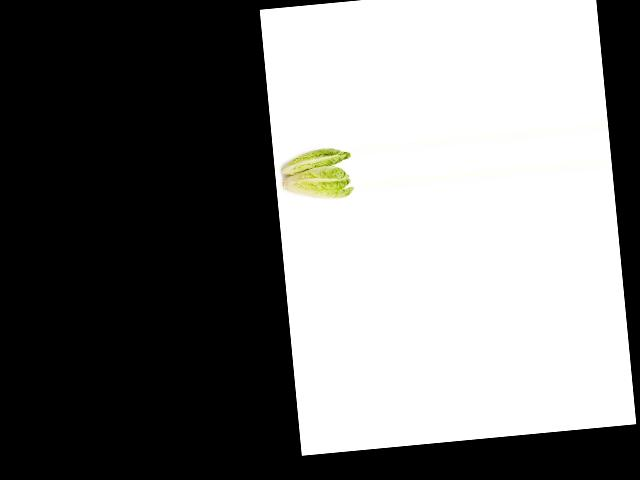lettuce: (274, 139, 352, 177)
